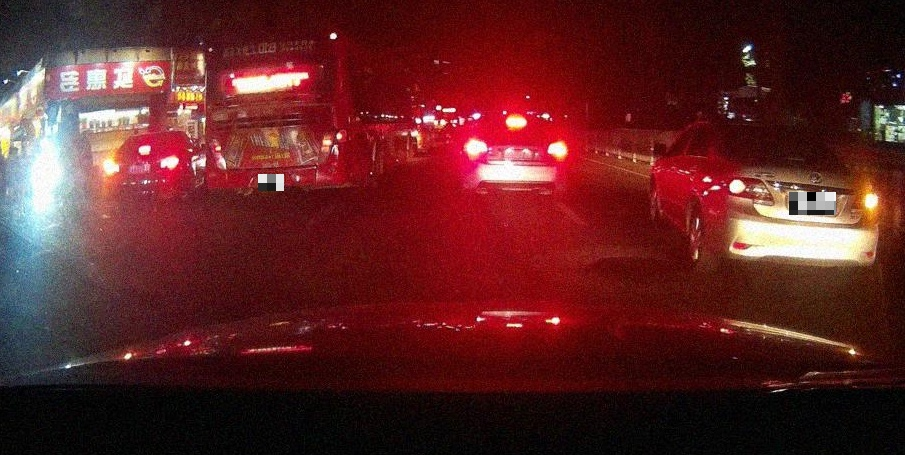L_light: (727, 177, 775, 206), (207, 132, 226, 170), (467, 142, 495, 154), (103, 161, 119, 175)
R_light: (330, 126, 349, 167), (851, 191, 879, 212), (159, 155, 179, 171), (540, 144, 566, 156)
T_light: (506, 119, 527, 127), (256, 56, 280, 62), (759, 130, 782, 136), (138, 145, 151, 154)
night-brake: (460, 112, 567, 194)
night-left: (103, 132, 187, 203)
night-no: (203, 20, 351, 199)
night-right: (710, 122, 880, 285)
plate_1: (258, 174, 284, 191)
plate_2: (789, 192, 836, 215)
